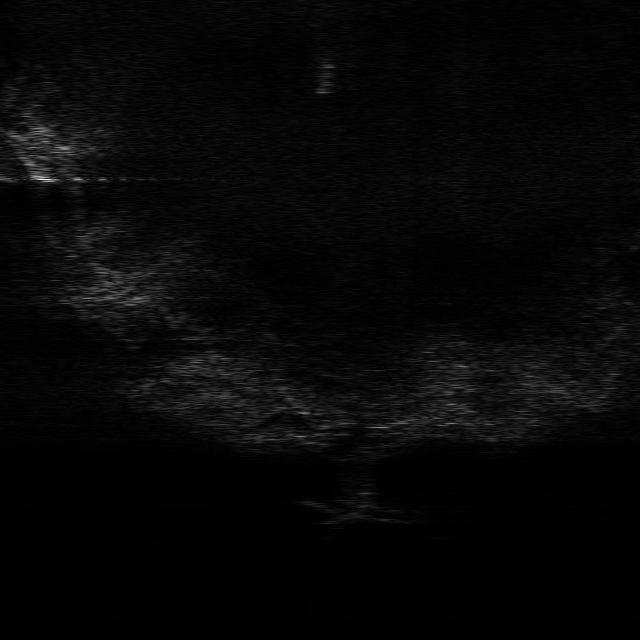plane: (301, 494, 410, 524)
